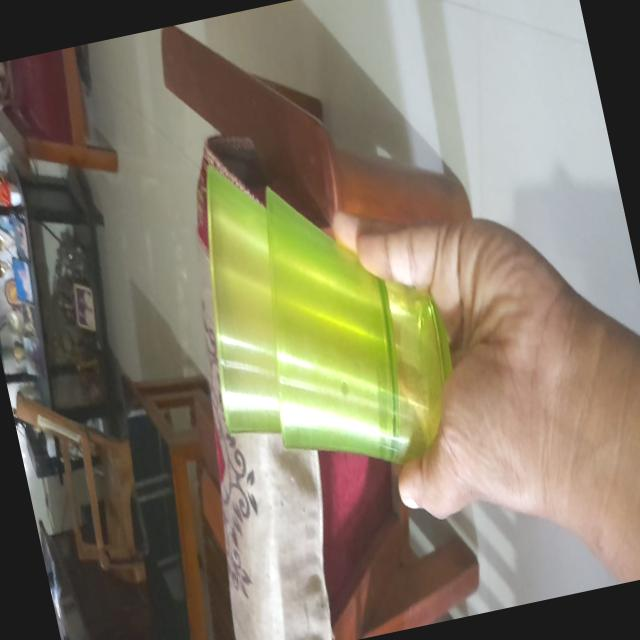Plastic - Recyclable: (170, 121, 473, 503)
